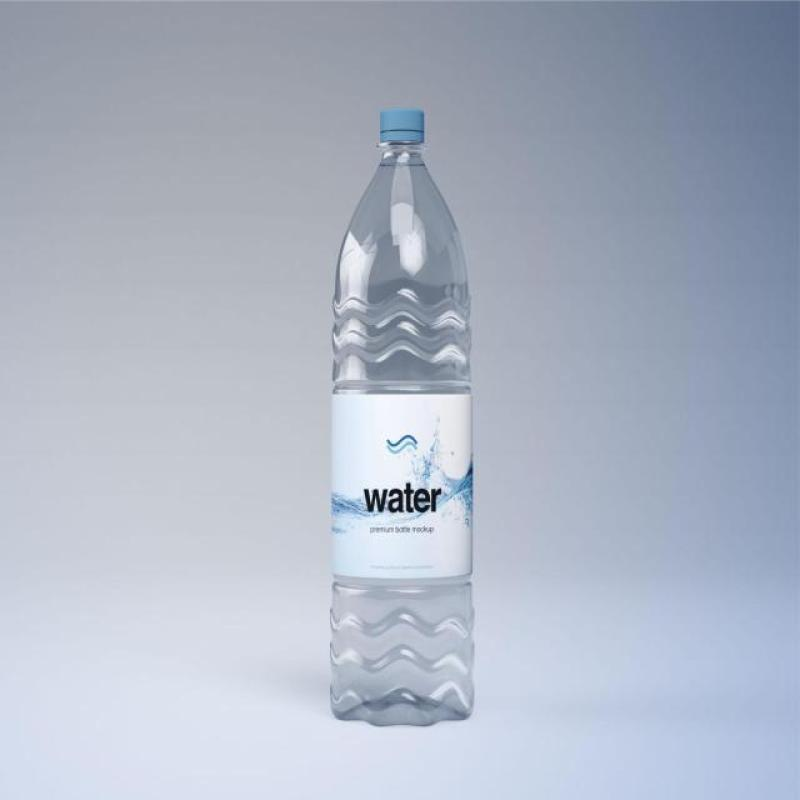botella: (333, 108, 477, 724)
